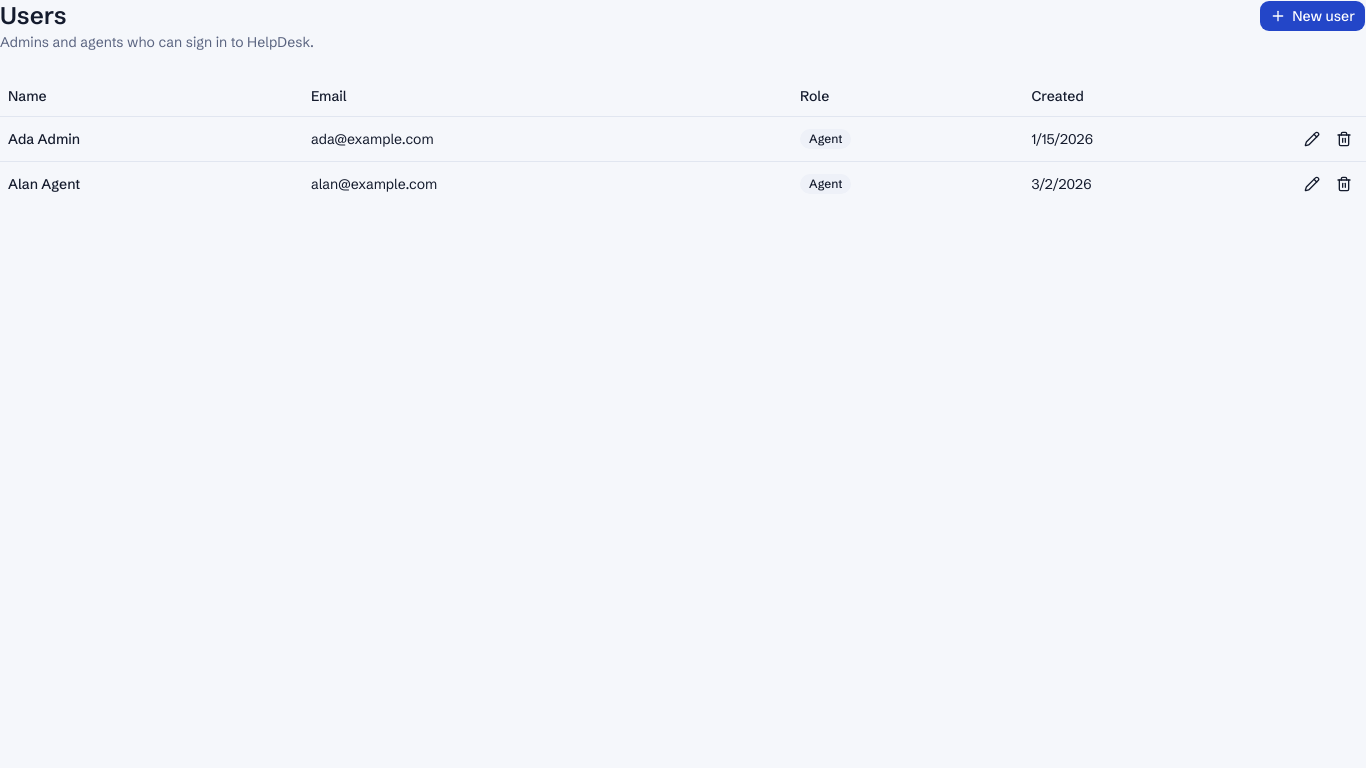
Test case: UsersPage › New user dialog › opens when the New user button is clicked
Expected: the table is shown, [0,76,1365,206]
Click the button "New user" at {"x": 1313, "y": 16}, box [1259,0,1365,32]
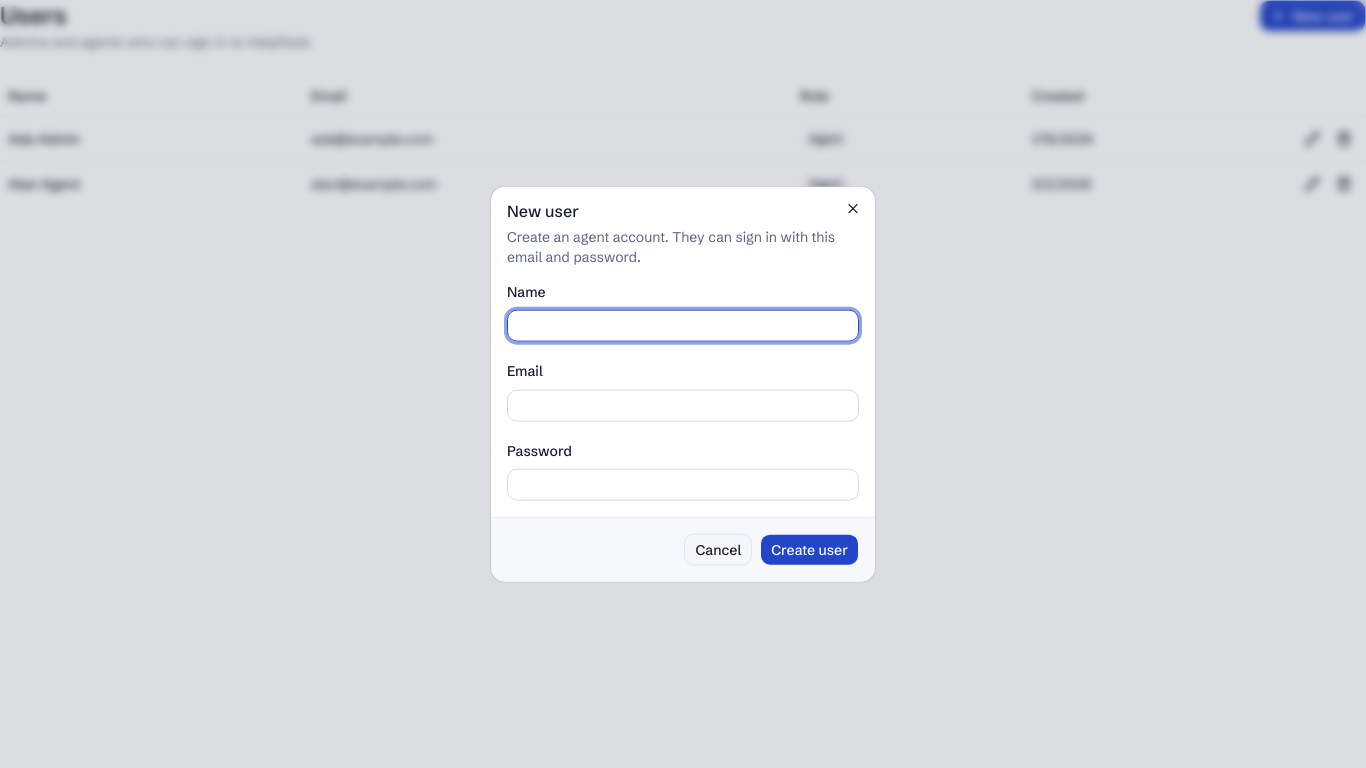
Expected: the field labelled "Name" is shown, [507,310,859,342]
Expected: the button "Create user" is shown, [760,533,859,565]
